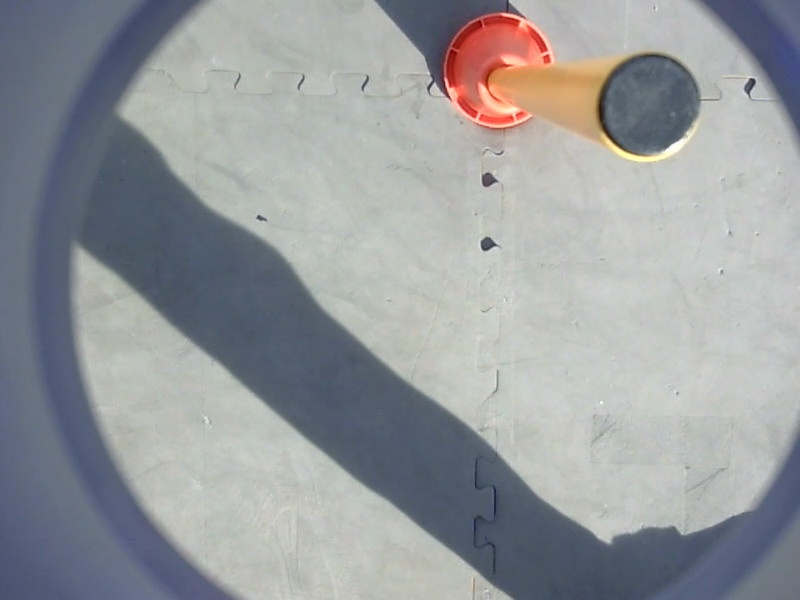tip: (590, 45, 709, 170)
